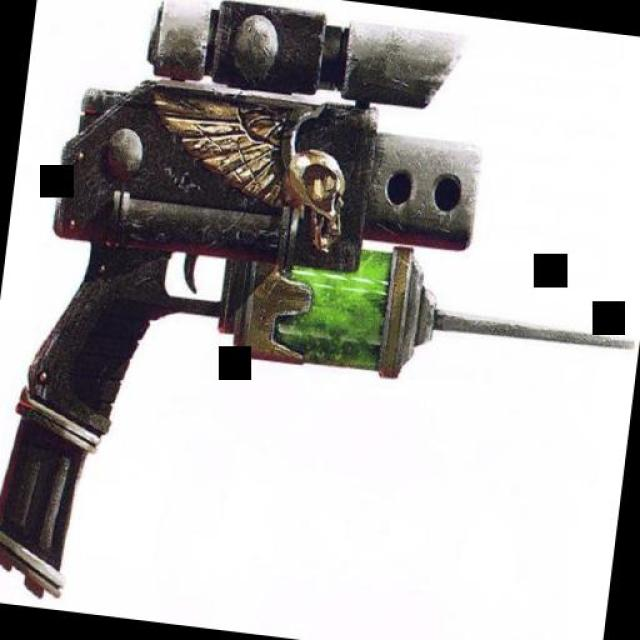gun: (0, 0, 489, 639)
